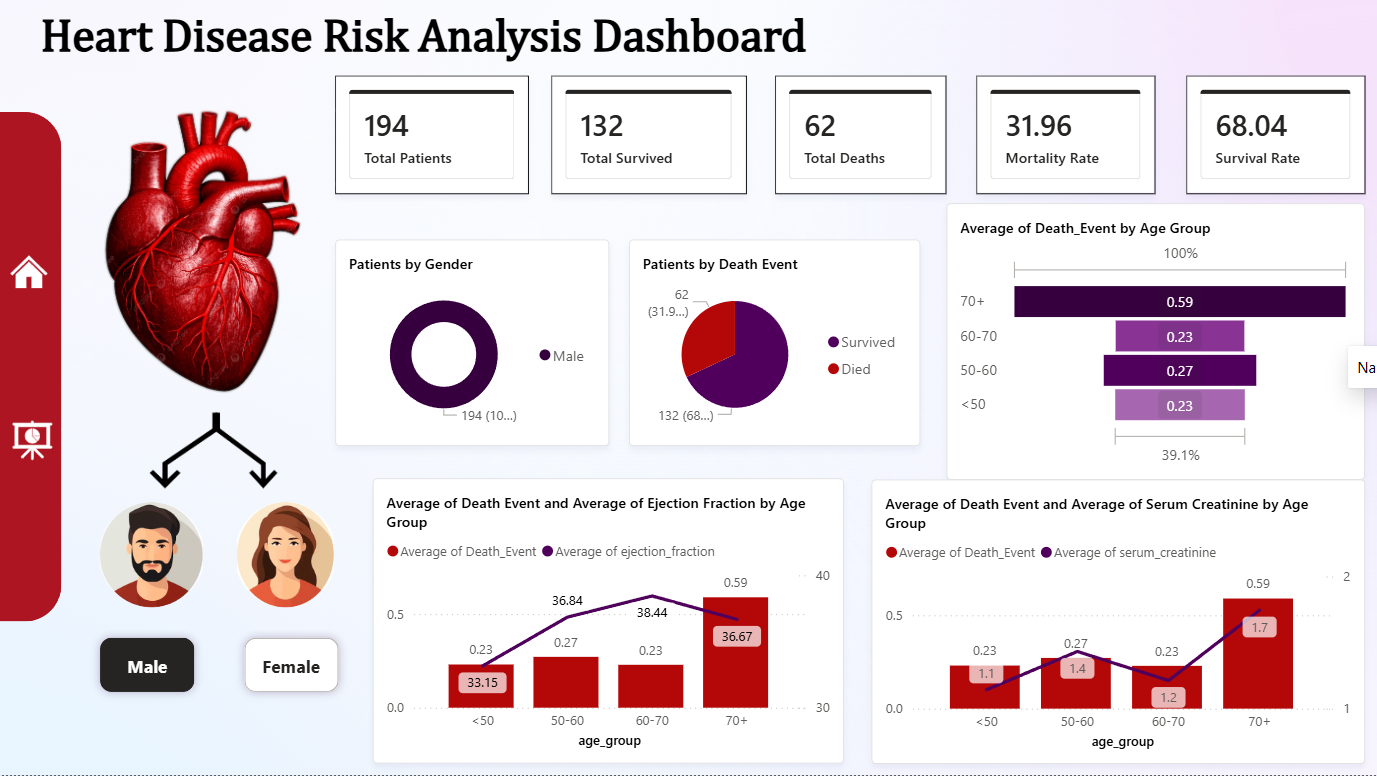

What the dashboard file says about the page in this screenshot:
{"tool":"powerbi","page":{"name":"Overview","canvas":[1280,720],"ordinal":0},"visuals":[{"type":"cardVisual","fields":{"Data":["Heart Disease EDA.Total Patients"]},"box":[311.2,72.9,179.3,109.9],"z":0},{"type":"cardVisual","fields":{"Data":["Heart Disease EDA.Total Deaths"]},"box":[718.3,72.9,158.5,109.9],"z":1000},{"type":"cardVisual","fields":{"Data":["Heart Disease EDA.Total Survived"]},"box":[511.3,72.9,180.4,109.9],"z":2000},{"type":"cardVisual","fields":{"Data":["Heart Disease EDA.Mortality Rate"]},"box":[904.5,72.9,165.4,109.9],"z":3000},{"type":"cardVisual","fields":{"Data":["Heart Disease EDA.Survival Rate"]},"box":[1098.9,72.9,165.4,109.9],"z":4000},{"type":"pieChart","title":"Patients by Death Event","fields":{"Category":["Heart Disease EDA.outcome_label"],"Y":["Heart Disease EDA.Total Patients"]},"box":[583,224.4,269.5,190.9],"z":5000},{"type":"donutChart","title":"Patients by Gender","fields":{"Y":["Heart Disease EDA.Total Patients"],"Category":["Heart Disease EDA.sex_label"]},"box":[311.2,224.4,253.3,190.9],"z":6000},{"type":"funnel","title":"Average of Death_Event by Age Group","fields":{"Category":["Heart Disease EDA.age_group"],"Y":["Avg(Heart Disease EDA.Death_Event)"]},"box":[876.8,190.9,387.5,255.6],"z":7000},{"type":"textbox","box":[33.9,9,747.4,71.2],"z":8000},{"type":"image","box":[92.7,467,97.2,97.2],"z":9000},{"type":"image","box":[218.2,467,92.7,97.2],"z":10000},{"type":"lineStackedColumnComboChart","title":"Average of Death Event and Average of Serum Creatinine by Age Group","fields":{"Category":["Heart Disease EDA.age_group"],"Y2":["Avg(Heart Disease EDA.serum_creatinine)"],"Y":["Avg(Heart Disease EDA.Death_Event)"]},"box":[807.3,446.6,456.8,263.4],"z":11000},{"type":"lineStackedColumnComboChart","title":"Average of Death Event and Average of Ejection Fraction by Age Group","fields":{"Y2":["Avg(Heart Disease EDA.ejection_fraction)"],"Category":["Heart Disease EDA.age_group"],"Y":["Avg(Heart Disease EDA.Death_Event)"]},"box":[345.9,445.3,436.1,263.7],"z":12000},{"type":"advancedSlicerVisual","fields":{"Values":["Heart Disease EDA.sex_label"]},"box":[57.7,577.8,288.3,82.5],"z":13000},{"type":"image","box":[47.5,80.3,284.9,313.2],"z":14000},{"type":"shape","box":[0,106.3,57.7,471.5],"z":15000},{"type":"image","box":[7.9,217.1,39.6,73.5],"z":16000},{"type":"image","box":[7.9,362.9,45.2,93.8],"z":17000},{"type":"image","box":[119.8,383.3,100.6,73.5],"z":18000},{"type":"image","box":[177.5,383.3,104,73.5],"z":19000}]}

Visuals, with their boxes in screenshot pixels (x1, y1, x2, y2), scaled from the page's 1280x720 canvas onto the 1377x776 screenshot:
cardVisual - Heart Disease EDA.Total Patients: x1=335 y1=79 x2=528 y2=197
cardVisual - Heart Disease EDA.Total Deaths: x1=773 y1=79 x2=943 y2=197
cardVisual - Heart Disease EDA.Total Survived: x1=550 y1=79 x2=744 y2=197
cardVisual - Heart Disease EDA.Mortality Rate: x1=973 y1=79 x2=1151 y2=197
cardVisual - Heart Disease EDA.Survival Rate: x1=1182 y1=79 x2=1360 y2=197
"Patients by Death Event" pieChart: x1=627 y1=242 x2=917 y2=448
"Patients by Gender" donutChart: x1=335 y1=242 x2=607 y2=448
"Average of Death_Event by Age Group" funnel: x1=943 y1=206 x2=1360 y2=481
textbox: x1=36 y1=10 x2=841 y2=86
image: x1=100 y1=503 x2=204 y2=608
image: x1=235 y1=503 x2=334 y2=608
"Average of Death Event and Average of Serum Creatinine by Age Group" lineStackedColumnComboChart: x1=868 y1=481 x2=1360 y2=765
"Average of Death Event and Average of Ejection Fraction by Age Group" lineStackedColumnComboChart: x1=372 y1=480 x2=841 y2=764
advancedSlicerVisual - Heart Disease EDA.sex_label: x1=62 y1=623 x2=372 y2=712
image: x1=51 y1=87 x2=358 y2=424
shape: x1=0 y1=115 x2=62 y2=623
image: x1=8 y1=234 x2=51 y2=313
image: x1=8 y1=391 x2=57 y2=492
image: x1=129 y1=413 x2=237 y2=492
image: x1=191 y1=413 x2=303 y2=492
